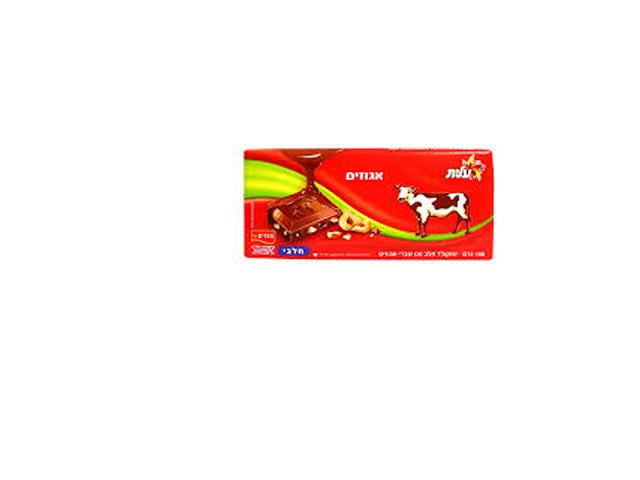chocolate: (237, 139, 509, 282)
